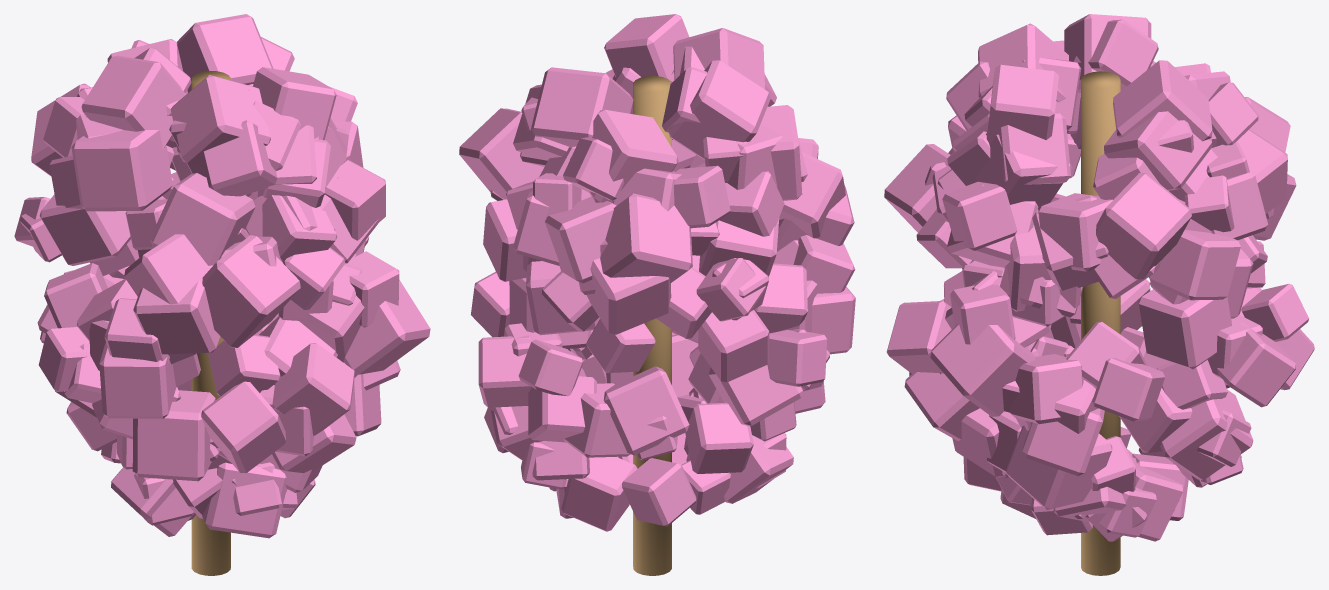
The model's file is RockCandy.fbx.
3 views of the same model, side by side, from view 1: azimuth 30°, elevation 25°; view 2: azimuth 150°, elevation 25°; view 3: azimuth 270°, elevation 25° (orthographic).
Parts seen in each view (by area): view 1: RockCandy_Crystal, RockCandy_Stick; view 2: RockCandy_Crystal, RockCandy_Stick; view 3: RockCandy_Crystal, RockCandy_Stick.
Part boxes in pixels (x1=…): RockCandy_Crystal: x1=14, y1=14, x2=430, y2=538; RockCandy_Stick: x1=191, y1=71, x2=230, y2=575; RockCandy_Crystal: x1=459, y1=14, x2=855, y2=531; RockCandy_Stick: x1=633, y1=76, x2=671, y2=575; RockCandy_Crystal: x1=884, y1=14, x2=1314, y2=541; RockCandy_Stick: x1=1081, y1=71, x2=1120, y2=575.
Bounding box in the file's own units: 136 × 205 × 152.
